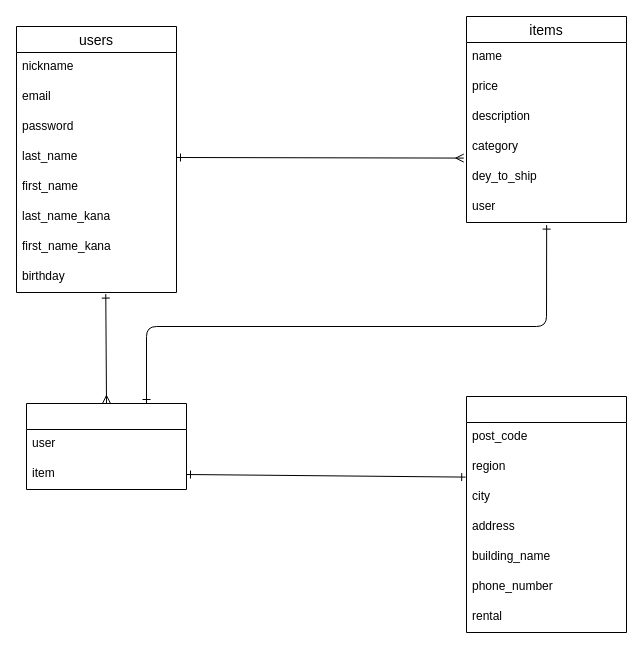
This 643x649 diagram has some shape labels left out. The box of each missing label's shape, as (x1, y1, x2, y2) in pixels:
order-informations: (466, 396, 626, 632)
rentals: (26, 402, 186, 490)
